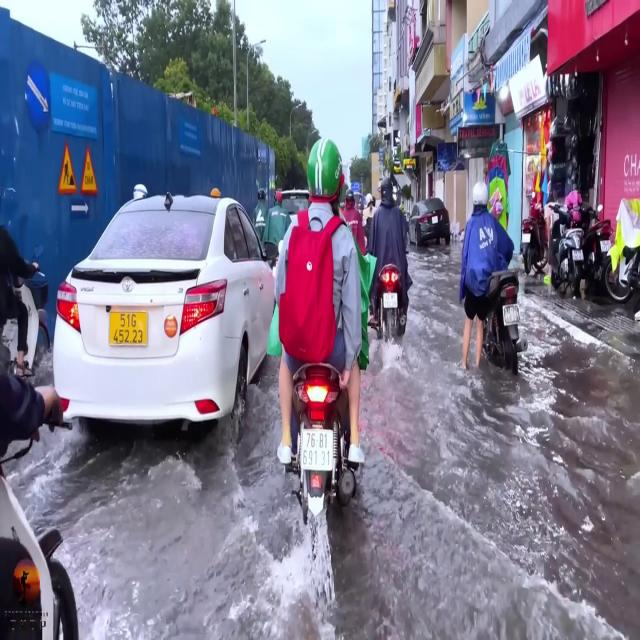bien_trang: (299, 428, 332, 474), (500, 302, 522, 328)
bien_vang: (109, 309, 150, 348)
